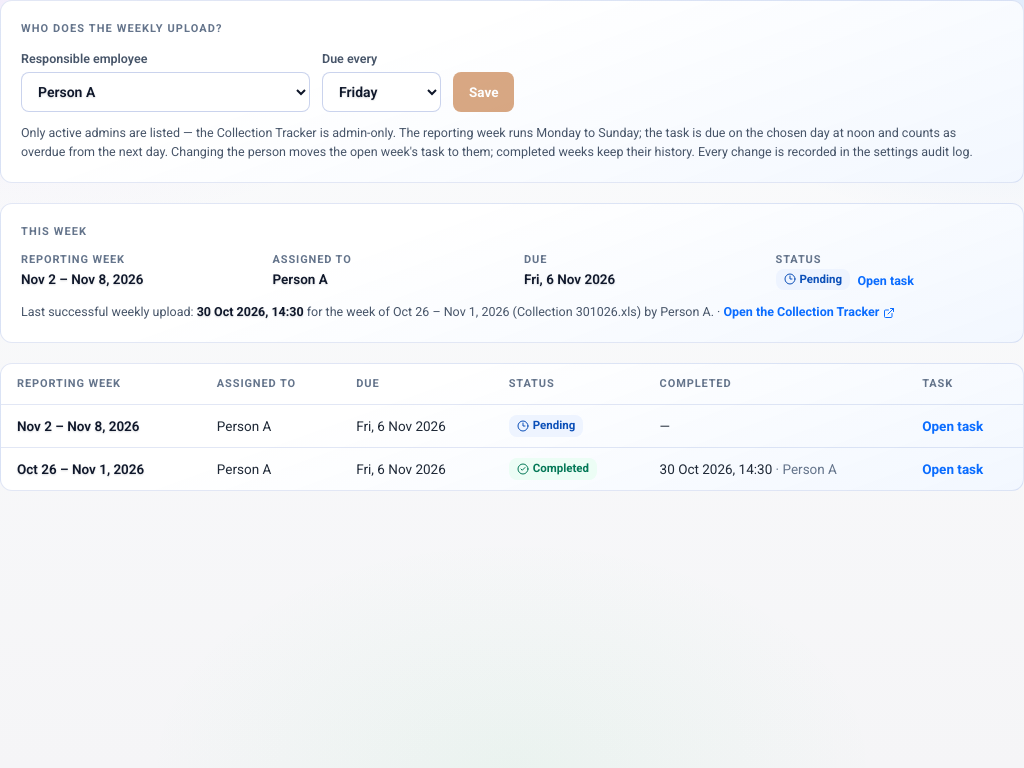
Test: Weekly Bulk Upload — admin page › shows the server's refusal
The width and height of the screenshot is (1024, 768).
Select "Person B — no Bulk Upload permission" in the dropdown labelled "Responsible employee". click: (166, 92)
box: [21,72,310,112]
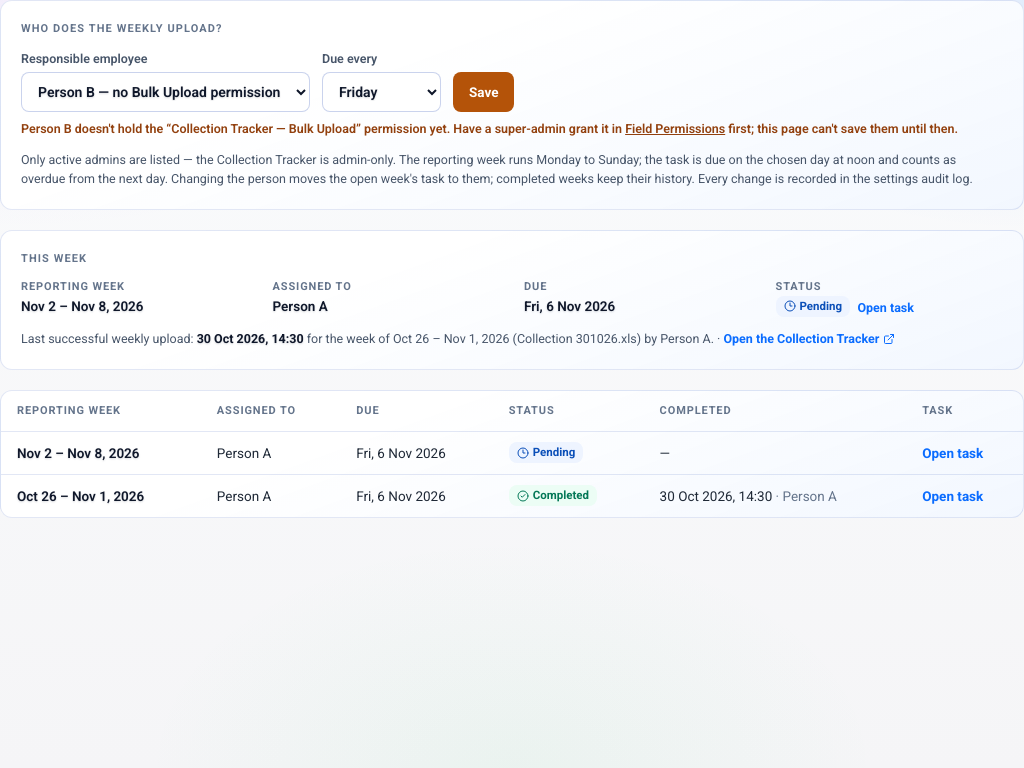
Click the button "Save". click: (484, 92)
box: [453,72,514,112]
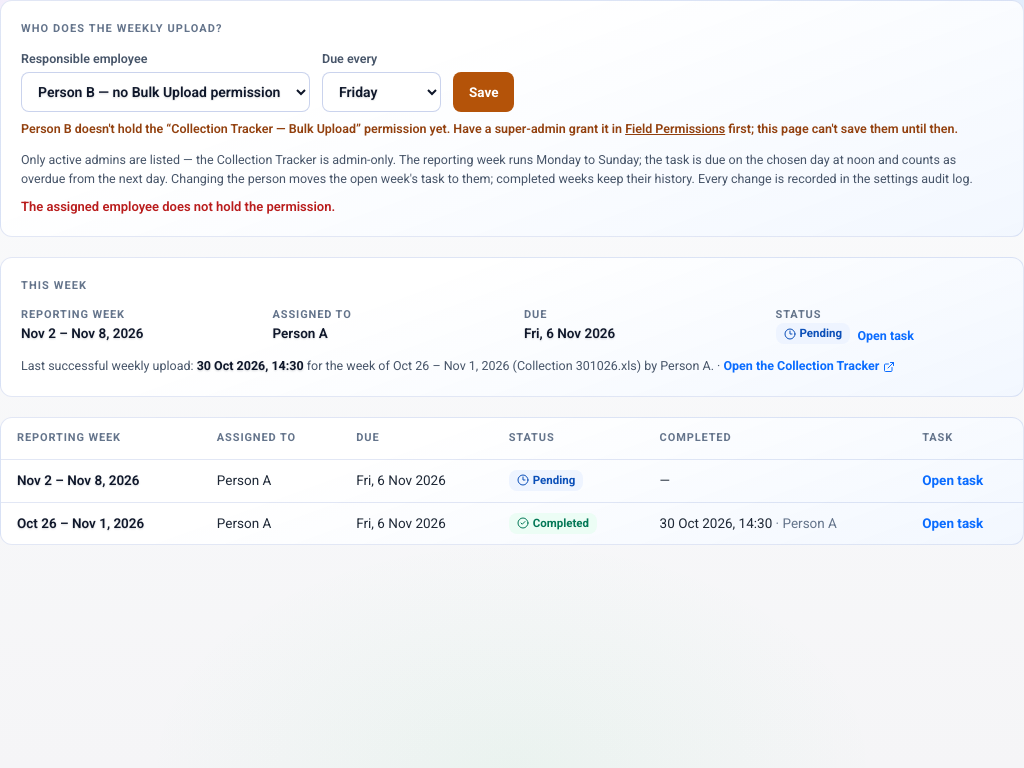
Check: the message shows "does not hold the permission", box [21,198,335,214]
